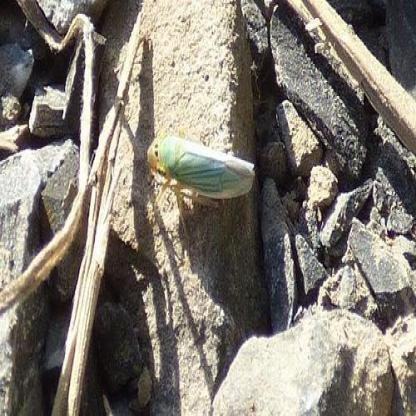Green-Leafhopper: (144, 127, 258, 221)
